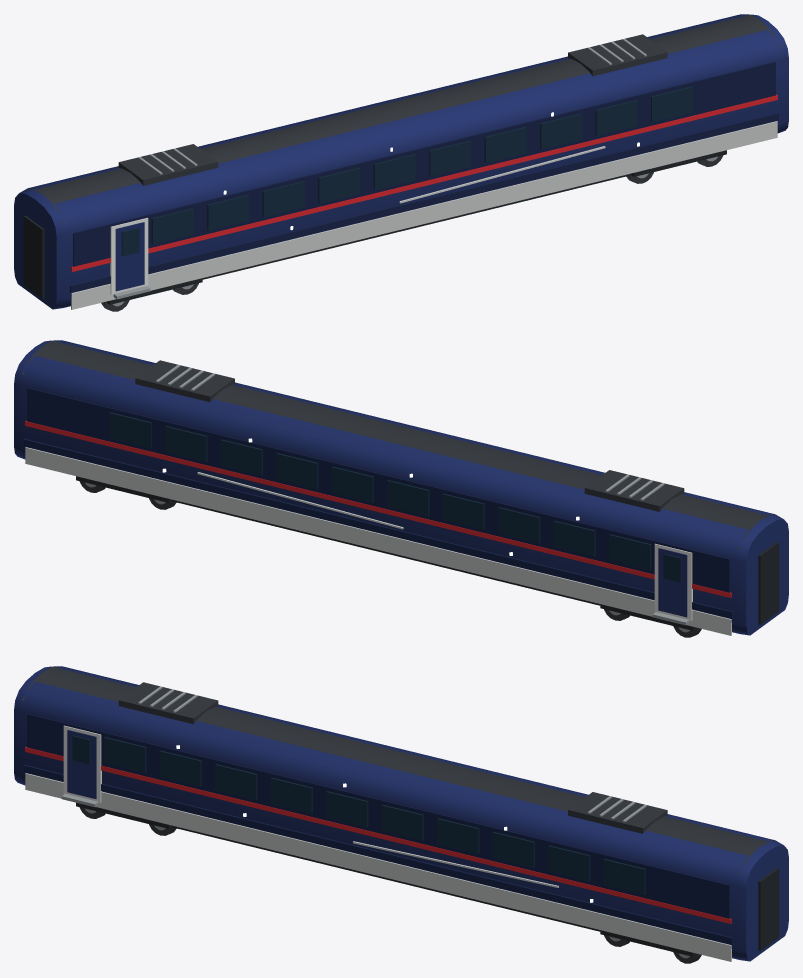
File: nightjet-new-generation-sleeping-b.glb
3 renders of one model, top to bottom at view 1: azimuth 30°, elevation 25°; view 2: azimuth 150°, elevation 25°; view 3: azimuth 330°, elevation 25°, orthographic.
Visible parts, largest first — view 1: nightjet_sleeping_b_lofted_body, sleeping_b_window_backdrop_-1, sleeping_b_silver_skirt_-1, sleeping_b_roof_cap, sleeping_b_dark_sill_-1, sleeping_b_red_belt_-1, sleeping_b_roof_hvac_0, sleeping_b_roof_hvac_1, gangway_1.001, sleeping_b_door_leaf_-1, sleeping_b_window_-1_1, sleeping_b_window_-1_2 (+11 smaller); view 2: nightjet_sleeping_b_lofted_body, sleeping_b_window_backdrop_1, sleeping_b_silver_skirt_1, sleeping_b_roof_cap, sleeping_b_dark_sill_1, sleeping_b_red_belt_1, sleeping_b_roof_hvac_0, sleeping_b_roof_hvac_1, gangway_1.001, sleeping_b_door_leaf_1, sleeping_b_window_1_1, sleeping_b_window_1_2 (+13 smaller); view 3: nightjet_sleeping_b_lofted_body, sleeping_b_window_backdrop_-1, sleeping_b_silver_skirt_-1, sleeping_b_roof_cap, sleeping_b_dark_sill_-1, sleeping_b_red_belt_-1, sleeping_b_roof_hvac_0, sleeping_b_roof_hvac_1, gangway_0.001, sleeping_b_door_leaf_-1, sleeping_b_window_-1_1, sleeping_b_window_-1_2 (+11 smaller).
Part boxes in pixels (x1,y1,x2,y2): nightjet_sleeping_b_lofted_body: [14, 14, 788, 309]; sleeping_b_window_backdrop_-1: [73, 61, 775, 266]; sleeping_b_silver_skirt_-1: [71, 121, 777, 309]; sleeping_b_roof_cap: [27, 14, 780, 222]; sleeping_b_dark_sill_-1: [70, 113, 778, 292]; sleeping_b_red_belt_-1: [71, 94, 777, 271]; sleeping_b_roof_hvac_0: [118, 144, 218, 185]; sleeping_b_roof_hvac_1: [568, 34, 667, 76]; gangway_1.001: [23, 215, 44, 298]; sleeping_b_door_leaf_-1: [115, 222, 144, 291]; sleeping_b_window_-1_1: [207, 194, 249, 230]; sleeping_b_window_-1_2: [262, 181, 304, 217]; nightjet_sleeping_b_lofted_body: [14, 340, 788, 635]; sleeping_b_window_backdrop_1: [27, 387, 729, 592]; sleeping_b_silver_skirt_1: [25, 447, 731, 635]; sleeping_b_roof_cap: [22, 340, 775, 548]; sleeping_b_dark_sill_1: [24, 439, 732, 618]; sleeping_b_red_belt_1: [25, 420, 731, 597]; sleeping_b_roof_hvac_0: [584, 470, 684, 511]; sleeping_b_roof_hvac_1: [135, 360, 234, 402]; gangway_1.001: [758, 541, 779, 624]; sleeping_b_door_leaf_1: [658, 548, 687, 617]; sleeping_b_window_1_1: [553, 520, 595, 556]; sleeping_b_window_1_2: [498, 507, 540, 543]; nightjet_sleeping_b_lofted_body: [14, 666, 788, 961]; sleeping_b_window_backdrop_-1: [27, 713, 729, 918]; sleeping_b_silver_skirt_-1: [25, 773, 731, 961]; sleeping_b_roof_cap: [22, 666, 775, 874]; sleeping_b_dark_sill_-1: [24, 765, 732, 944]; sleeping_b_red_belt_-1: [25, 746, 731, 923]; sleeping_b_roof_hvac_0: [118, 682, 218, 724]; sleeping_b_roof_hvac_1: [568, 792, 667, 833]; gangway_0.001: [758, 867, 779, 950]; sleeping_b_door_leaf_-1: [67, 730, 96, 798]; sleeping_b_window_-1_1: [159, 750, 201, 786]; sleeping_b_window_-1_2: [215, 764, 257, 800].
Bounding box in the file's own units: 26.56 × 4.36 × 3.45.
